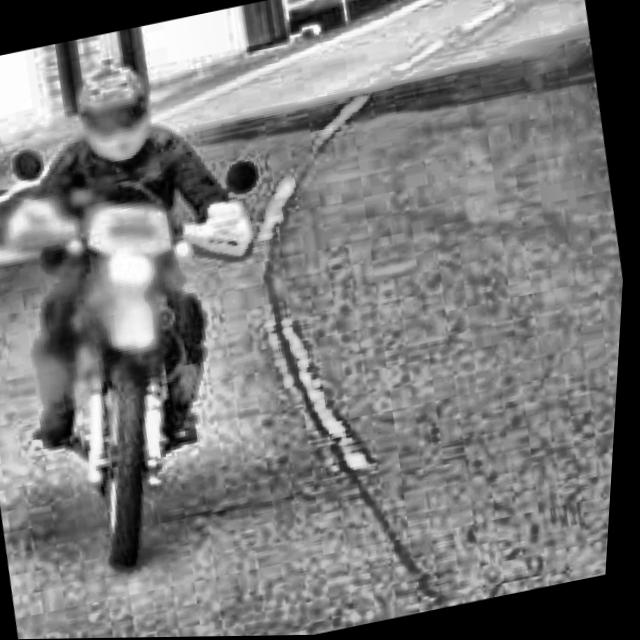motorcycle: (0, 95, 336, 597)
